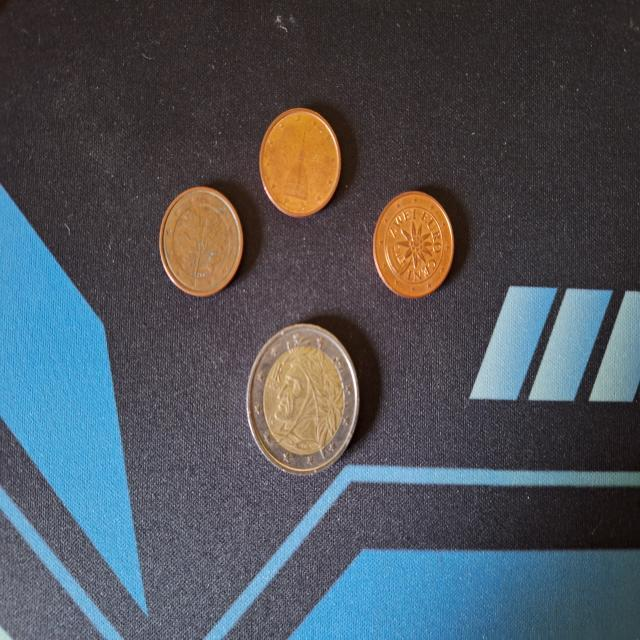2c: (157, 185, 250, 300), (258, 104, 344, 220), (372, 189, 457, 300)
2e: (244, 322, 363, 478)
